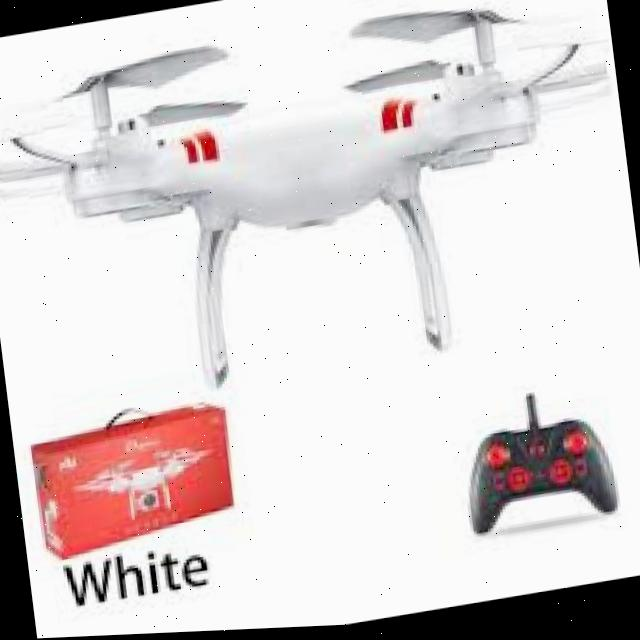drone: (0, 0, 640, 439)
